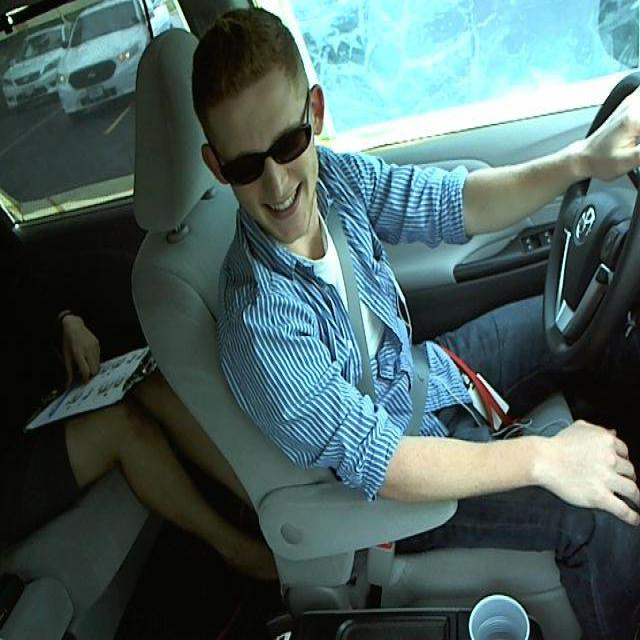seatbelt: (331, 200, 445, 441)
